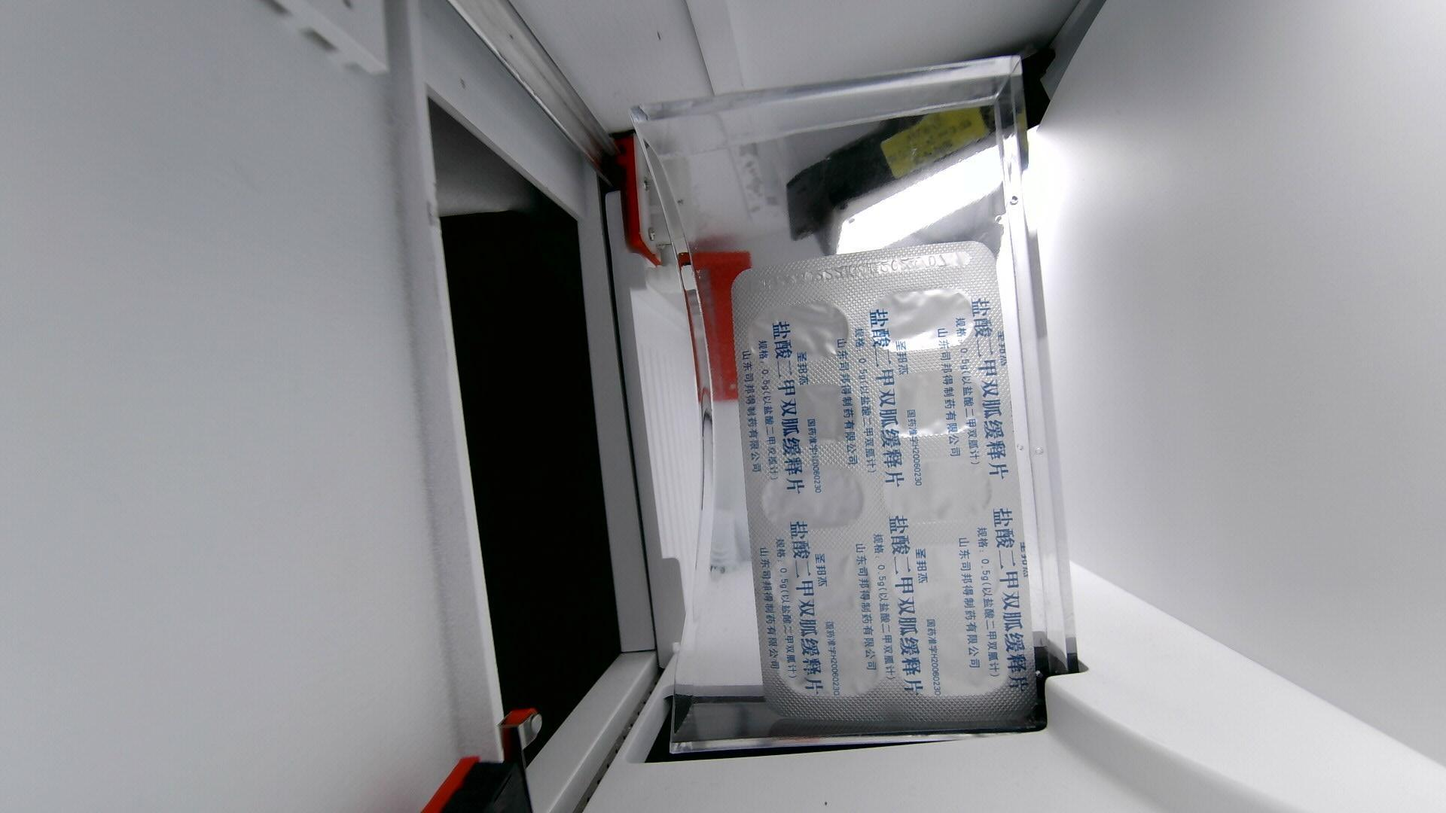Pill Back: (895, 623, 1017, 699), (769, 627, 889, 699), (752, 467, 871, 535), (761, 550, 877, 617), (758, 380, 868, 449), (883, 456, 998, 521), (897, 544, 1007, 608), (871, 376, 986, 433), (749, 300, 853, 361), (867, 295, 978, 352)
